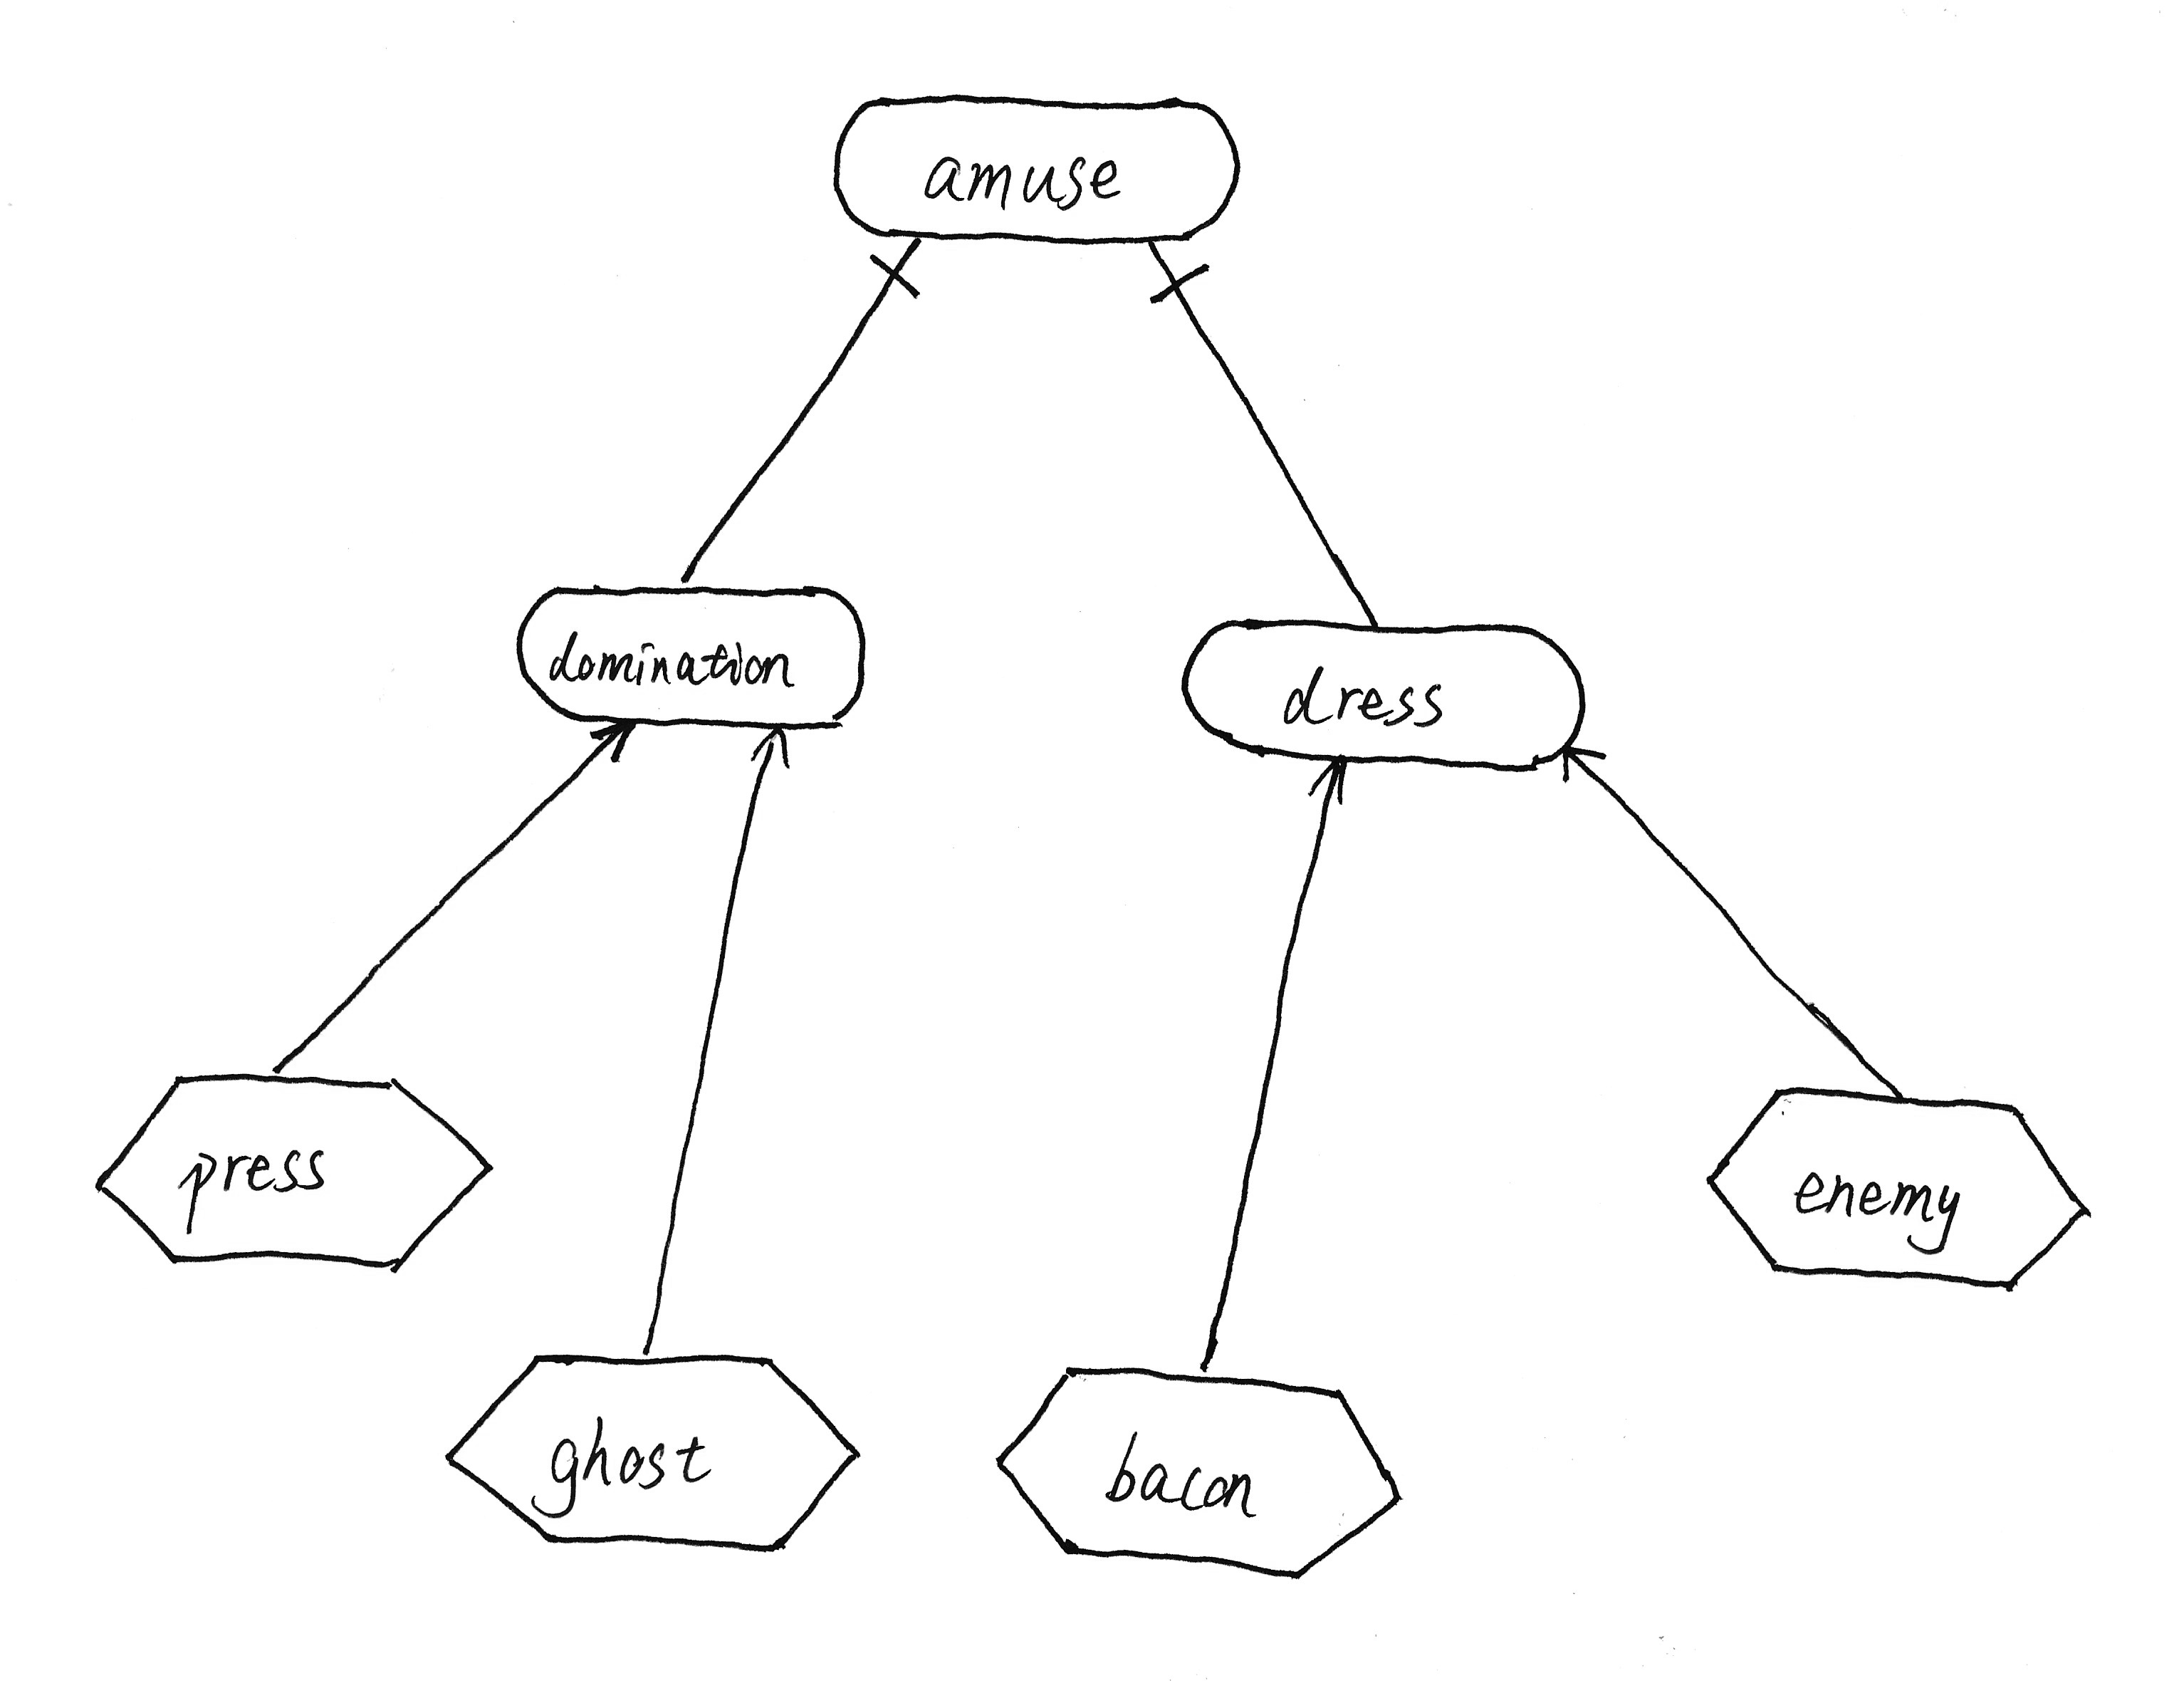and: (1135, 239, 1228, 328), (846, 232, 936, 323)
arrow: (1292, 759, 1369, 817), (574, 718, 647, 775), (741, 721, 807, 782), (1551, 743, 1615, 794)
goal: (821, 73, 1255, 261), (1170, 606, 1597, 783), (505, 574, 881, 741)
task: (979, 1345, 1423, 1593), (434, 1335, 877, 1563), (82, 1053, 509, 1283), (1689, 1072, 2101, 1308)
